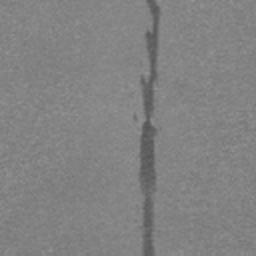Red iron sheet: (139, 0, 160, 256)
